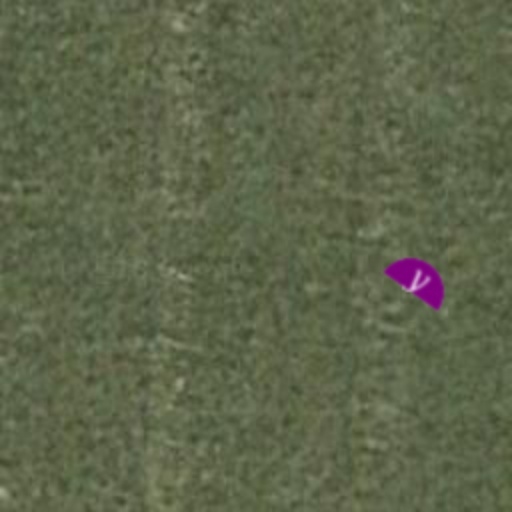semicircle: (372, 230, 468, 326)
